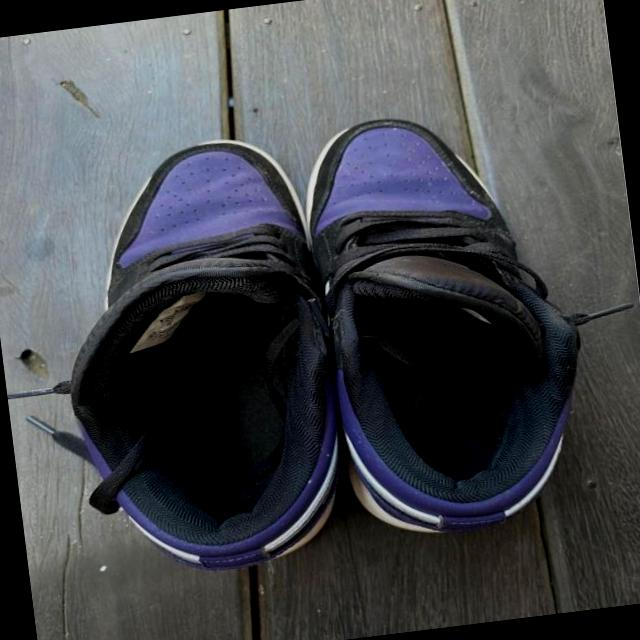nike_fake_jordan: (278, 93, 608, 552), (36, 128, 358, 587)
